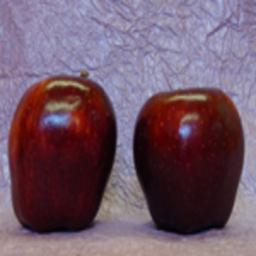apple: (7, 73, 117, 233), (132, 86, 244, 235)
